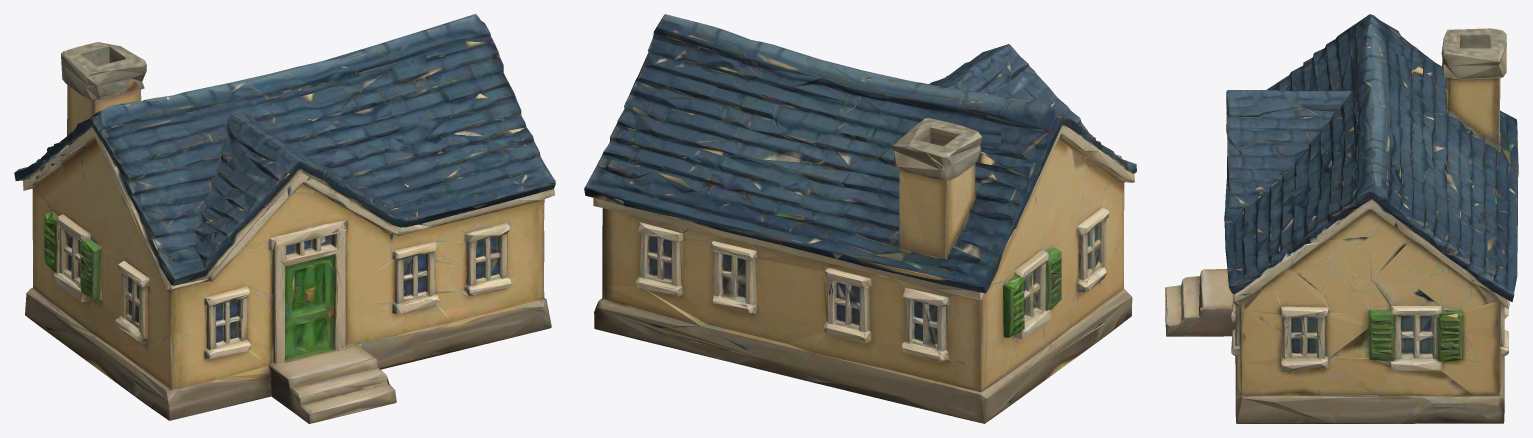
Rendered from town_small_house_1x1_1.glb.
3 views of the same model, side by side, from view 1: azimuth 30°, elevation 25°; view 2: azimuth 150°, elevation 25°; view 3: azimuth 270°, elevation 25° (orthographic). The views are drawn at different scales.
Parts seen in each view (by area): view 1: normalize; view 2: normalize; view 3: normalize.
Part boxes in pixels (x1,y1,x2,y2): normalize: (14,14,555,423); normalize: (584,14,1136,423); normalize: (1165,14,1518,423).
Size of the model in its own units: 1 by 0.6302 by 0.8375.
1 material, 1 textured.
